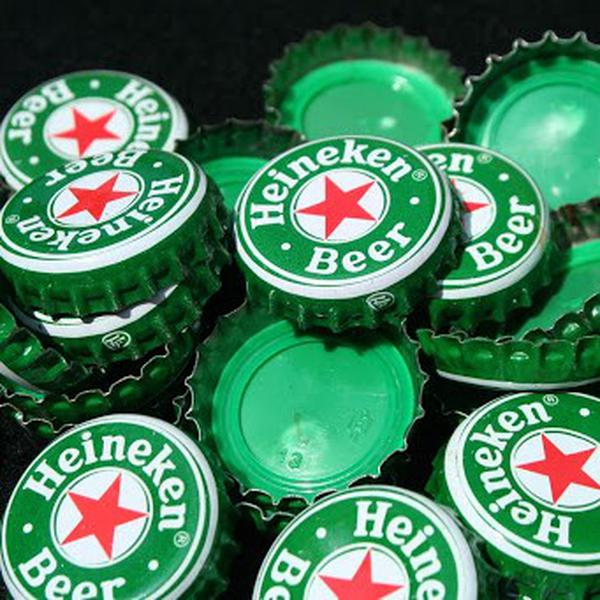heineken: (231, 132, 458, 320), (1, 408, 220, 600), (437, 371, 600, 582), (1, 140, 222, 293), (1, 68, 189, 185)
